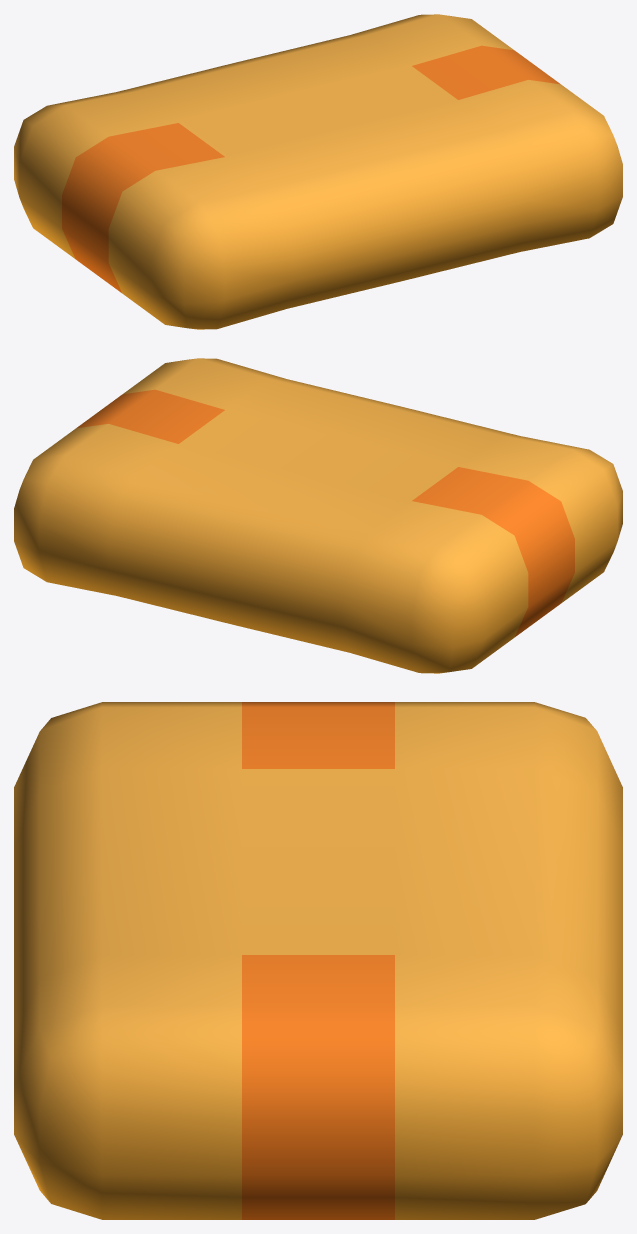
Rendered from Prop_Cimentbag_01.fbx.
3 views of the same model, one above another, from view 1: azimuth 30°, elevation 25°; view 2: azimuth 150°, elevation 25°; view 3: azimuth 270°, elevation 25° (orthographic). The views are drawn at different scales.
Parts seen in each view (by area): view 1: Prop_Cimentbag_01; view 2: Prop_Cimentbag_01; view 3: Prop_Cimentbag_01.
Boxes of the visible parts, bbox=[...] form: Prop_Cimentbag_01: bbox=[14, 14, 622, 329]; Prop_Cimentbag_01: bbox=[14, 358, 622, 673]; Prop_Cimentbag_01: bbox=[14, 702, 622, 1219].
Size of the model in its own units: 66.78 by 17.46 by 46.14.
